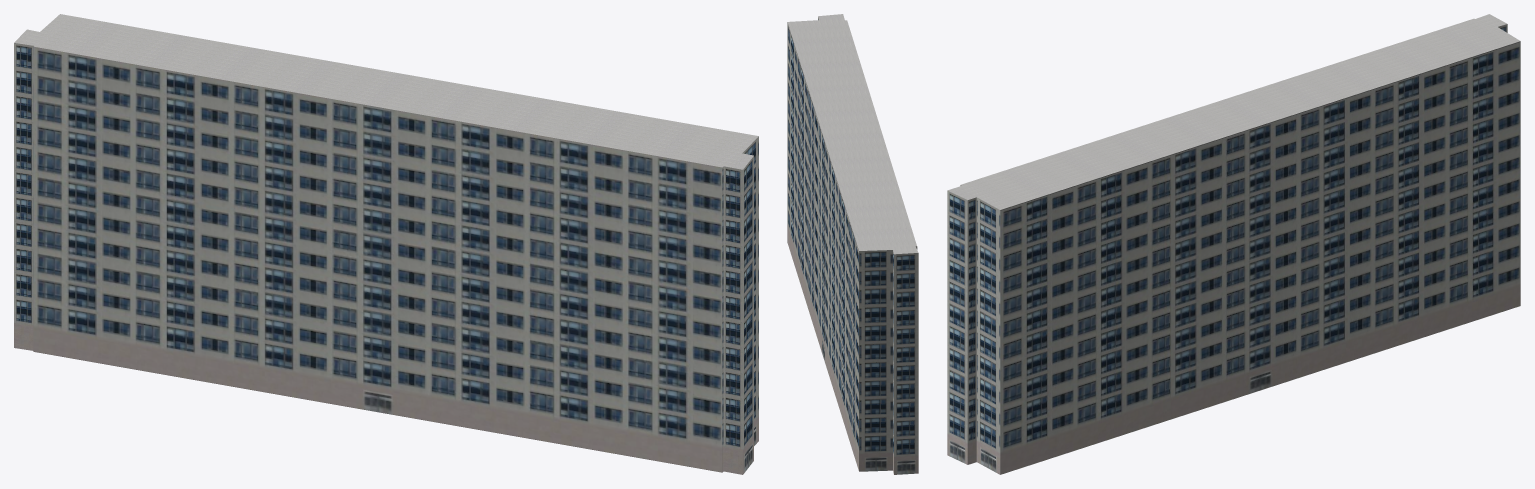
The picture shows the model from 3 angles, left to right: view 1: azimuth 30°, elevation 25°; view 2: azimuth 150°, elevation 25°; view 3: azimuth 270°, elevation 25°; orthographic projection. The views are drawn at different scales.
Visible parts, largest first — view 1: BuildingMaster_1977194060484461810200000000_0, BuildingMaster_1977194060484461810200000000_1; view 2: BuildingMaster_1977194060484461810200000000_0, BuildingMaster_1977194060484461810200000000_1; view 3: BuildingMaster_1977194060484461810200000000_0, BuildingMaster_1977194060484461810200000000_1.
Part boxes in pixels (bbox=[...]): BuildingMaster_1977194060484461810200000000_0: bbox=[14, 43, 758, 474]; BuildingMaster_1977194060484461810200000000_1: bbox=[14, 14, 758, 169]; BuildingMaster_1977194060484461810200000000_0: bbox=[787, 17, 918, 474]; BuildingMaster_1977194060484461810200000000_1: bbox=[787, 14, 918, 254]; BuildingMaster_1977194060484461810200000000_0: bbox=[947, 24, 1520, 474]; BuildingMaster_1977194060484461810200000000_1: bbox=[947, 14, 1520, 209].
Bounding box in the file's own units: 66.71 × 42 × 82.43.
2 materials, 2 textured.
